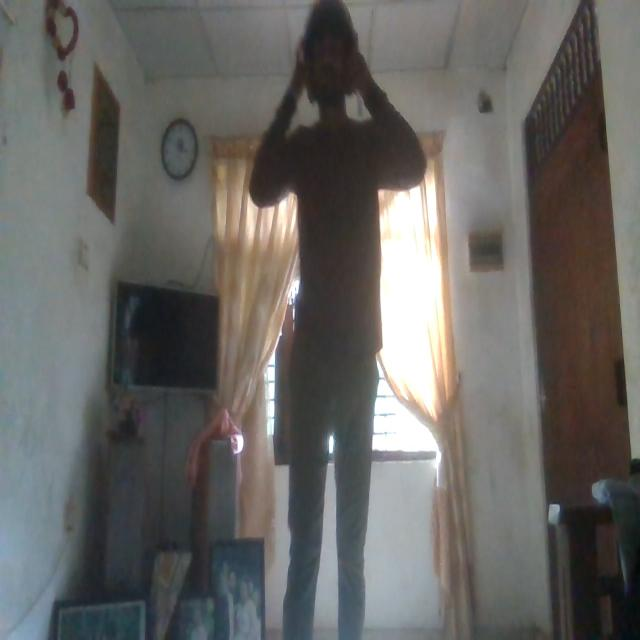Helmet_Wearer: (297, 4, 373, 126)
Person: (248, 3, 419, 640)
